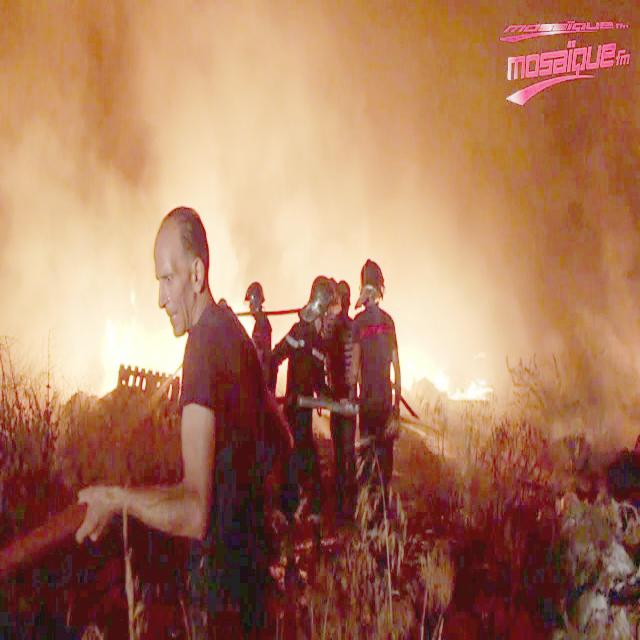api: (400, 307, 496, 412), (95, 328, 177, 382)
asap: (139, 1, 394, 202), (4, 170, 100, 390), (412, 135, 518, 288), (570, 275, 640, 419)
